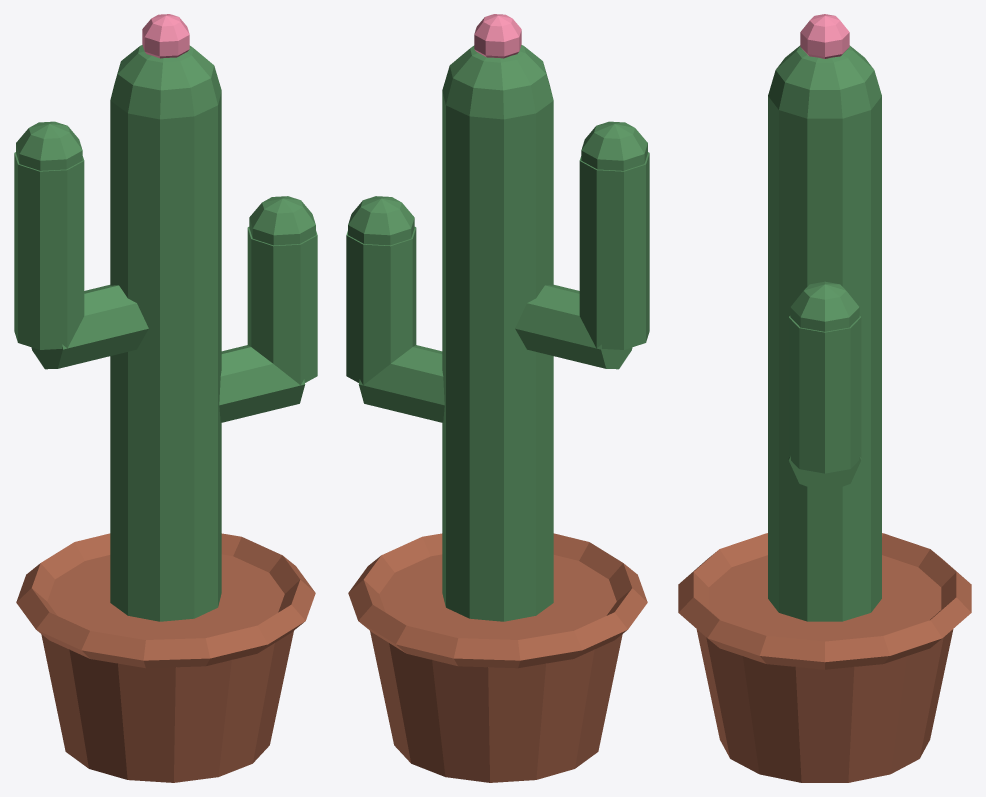
Rendered from cactus.glb.
3 renders of one model, left to right at view 1: azimuth 30°, elevation 25°; view 2: azimuth 150°, elevation 25°; view 3: azimuth 270°, elevation 25°, orthographic.
Parts seen in each view (by area): view 1: cactus; view 2: cactus; view 3: cactus.
Part boxes in pixels (x1,y1,x2,y2): cactus: (14,14,317,782); cactus: (346,14,649,782); cactus: (678,14,971,782).
Bounding box in the file's own units: 0.66 × 1.54 × 0.5655.
